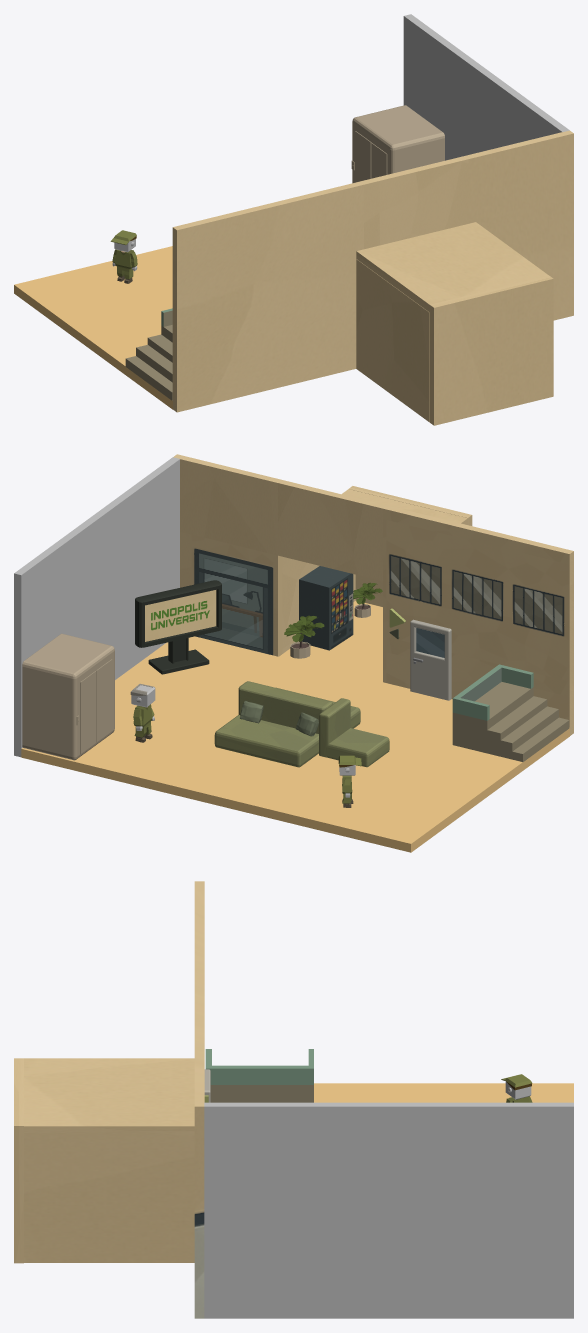
The model's file is location2.fbx.
3 renders of one model, top to bottom at view 1: azimuth 30°, elevation 25°; view 2: azimuth 150°, elevation 25°; view 3: azimuth 270°, elevation 25°, orthographic. The views are drawn at different scales.
Parts seen in each view (by area): view 1: стена аудитория, стена вендинг, стена в холл.001, пол, потолок вендинг, стена вендинг.002, лифт, stairs, охранник1, дверь лифта; view 2: стена аудитория, пол, стена в холл.001, лифт, stairs, Cube, Object_6, часть дивана.001, пол вендинг, Cube.003, часть дивана, стена вендинг.001 (+10 smaller); view 3: стена в холл.001, стена вендинг.001, потолок вендинг, стена аудитория, пол, stairs, стена вендинг, охранник1.
Boxes of the visible parts, x1,y1,x2,y2 form: стена аудитория: [172, 130, 573, 412]; стена вендинг: [430, 275, 553, 425]; стена в холл.001: [403, 14, 569, 160]; пол: [14, 246, 172, 409]; потолок вендинг: [356, 222, 548, 312]; стена вендинг.002: [356, 259, 429, 422]; лифт: [352, 105, 444, 183]; stairs: [125, 308, 172, 400]; охранник1: [110, 230, 137, 283]; дверь лифта: [355, 131, 371, 182]; стена аудитория: [173, 454, 573, 735]; пол: [21, 636, 569, 852]; стена в холл.001: [14, 457, 179, 757]; лифт: [22, 633, 114, 760]; stairs: [452, 664, 569, 761]; Cube: [135, 580, 221, 674]; Object_6: [299, 566, 353, 650]; часть дивана.001: [214, 715, 318, 767]; пол вендинг: [279, 600, 382, 681]; Cube.003: [410, 619, 451, 700]; часть дивана: [238, 681, 332, 733]; стена вендинг.001: [282, 556, 355, 653]; стена в холл.001: [204, 1102, 573, 1318]; стена вендинг.001: [24, 1135, 194, 1262]; потолок вендинг: [24, 1058, 194, 1135]; стена аудитория: [194, 881, 204, 1318]; пол: [314, 1083, 573, 1102]; stairs: [205, 1049, 313, 1102]; стена вендинг: [14, 1058, 23, 1263]; охранник1: [501, 1074, 532, 1102].
Bounding box in the file's own units: 688 × 302 × 722.
